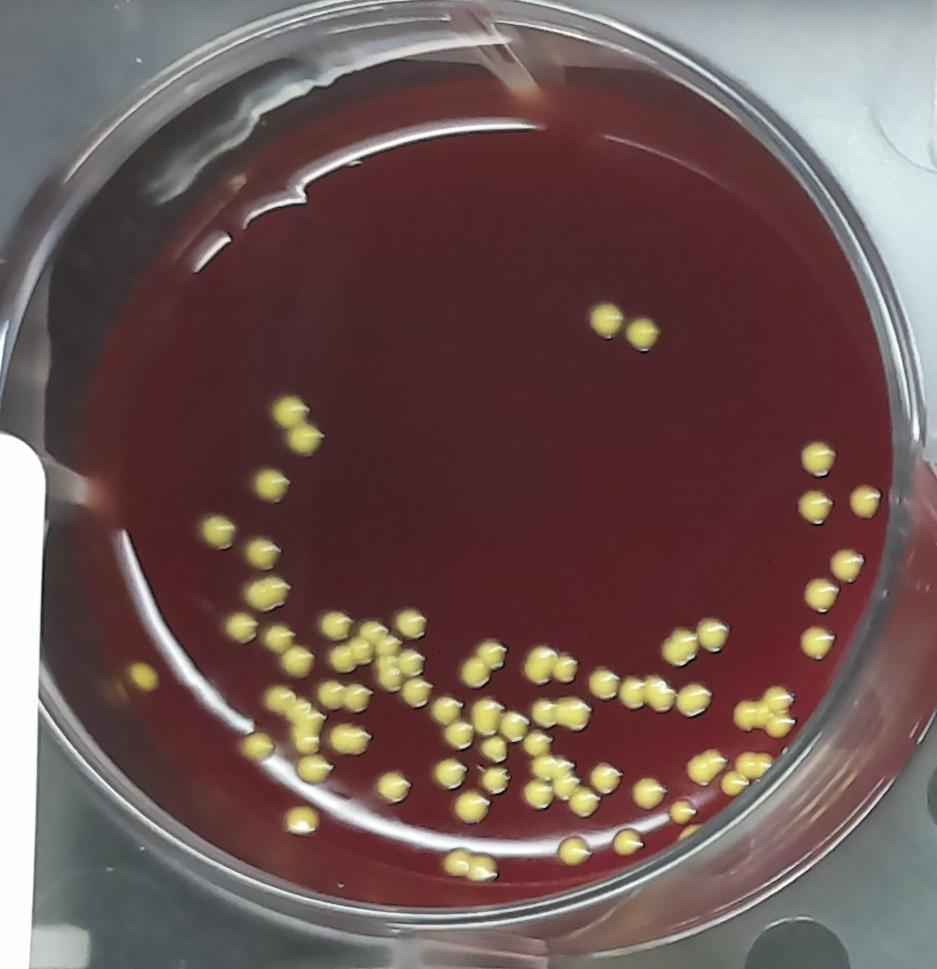mluteus: (247, 465, 292, 507), (269, 392, 310, 434), (282, 422, 326, 460)
